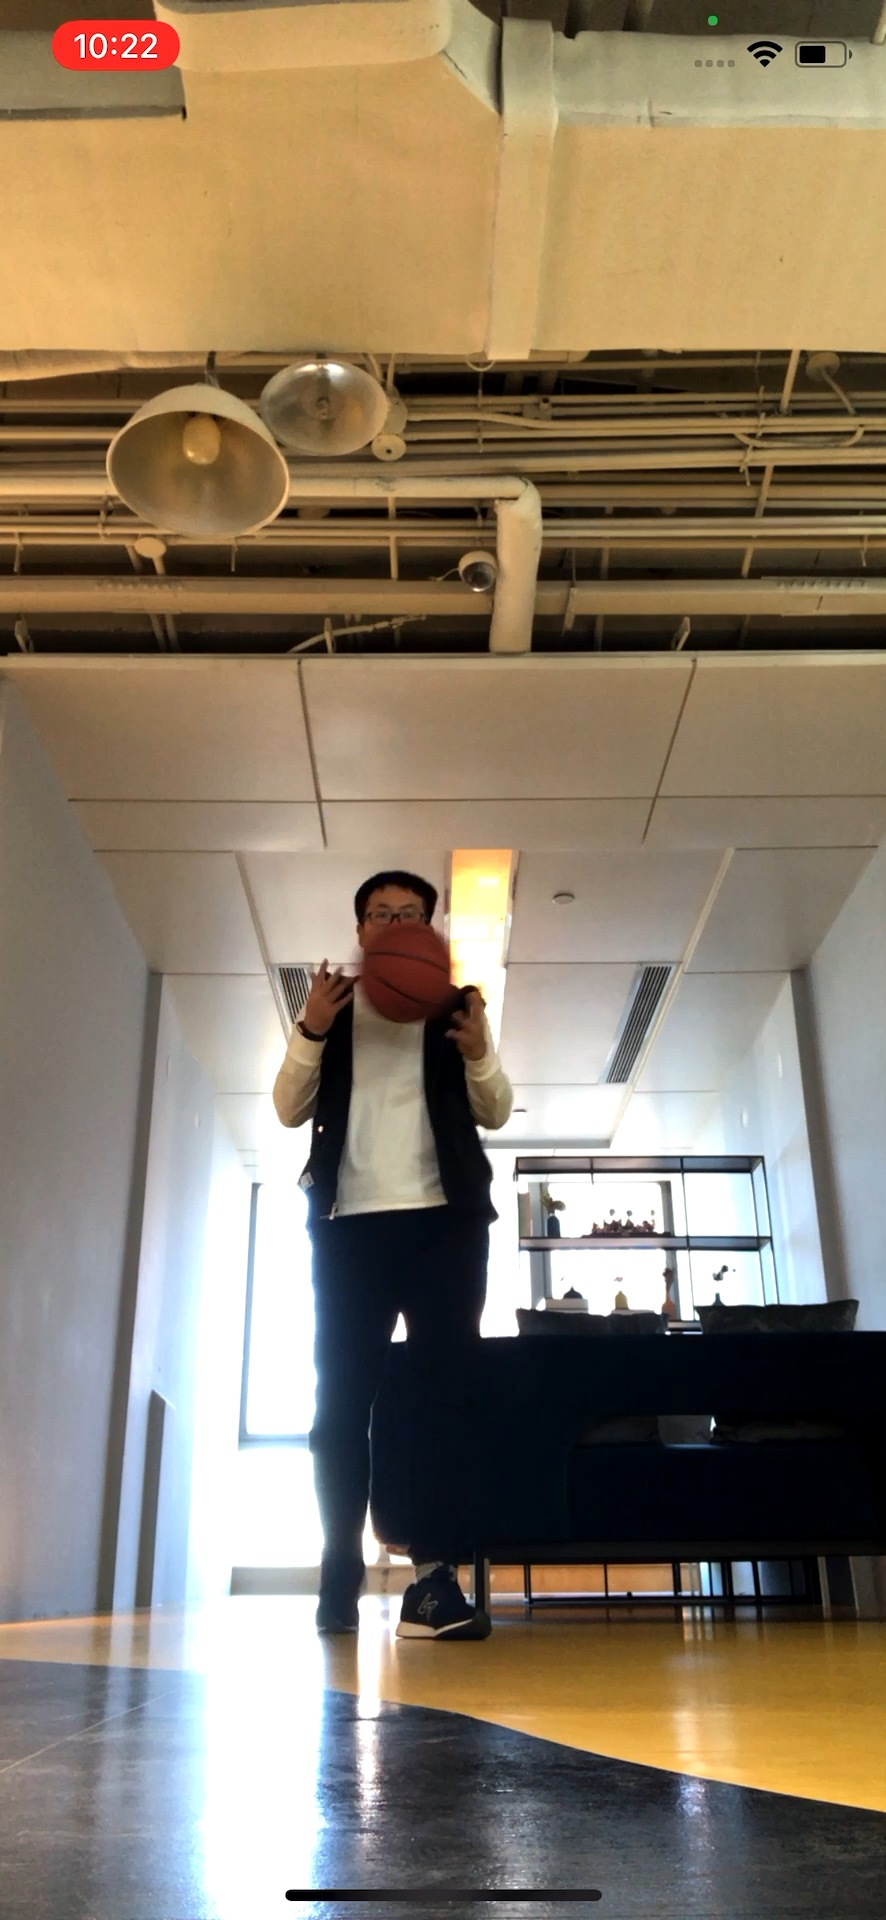ball: (359, 921, 455, 1027)
